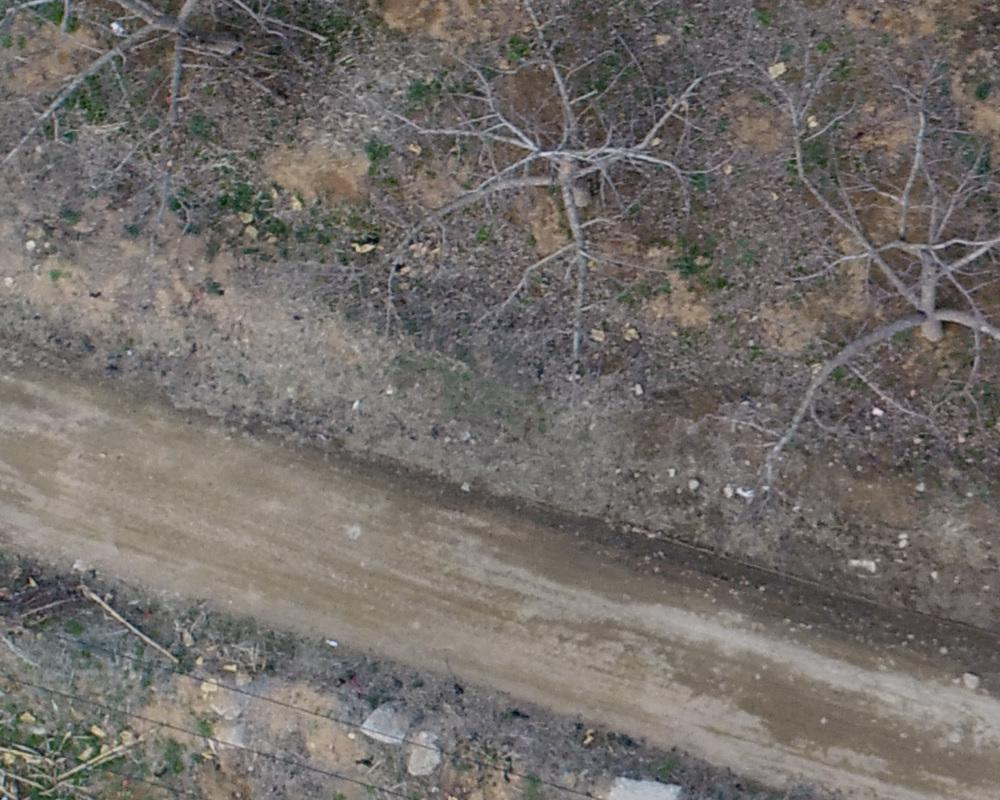apple: (370, 10, 729, 318), (757, 81, 990, 485), (10, 10, 325, 143)
